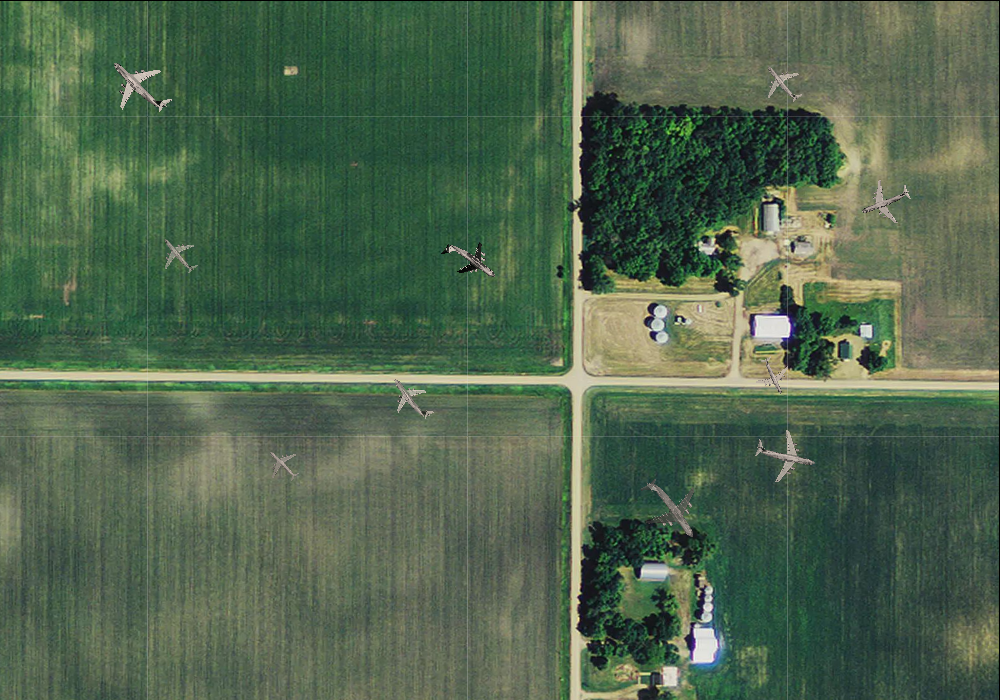plane: (622, 461, 718, 558), (93, 38, 186, 131), (431, 224, 507, 298), (749, 420, 821, 490), (379, 364, 444, 431), (852, 169, 918, 233), (752, 51, 814, 113), (149, 224, 208, 284), (748, 349, 798, 401), (257, 440, 307, 490)
